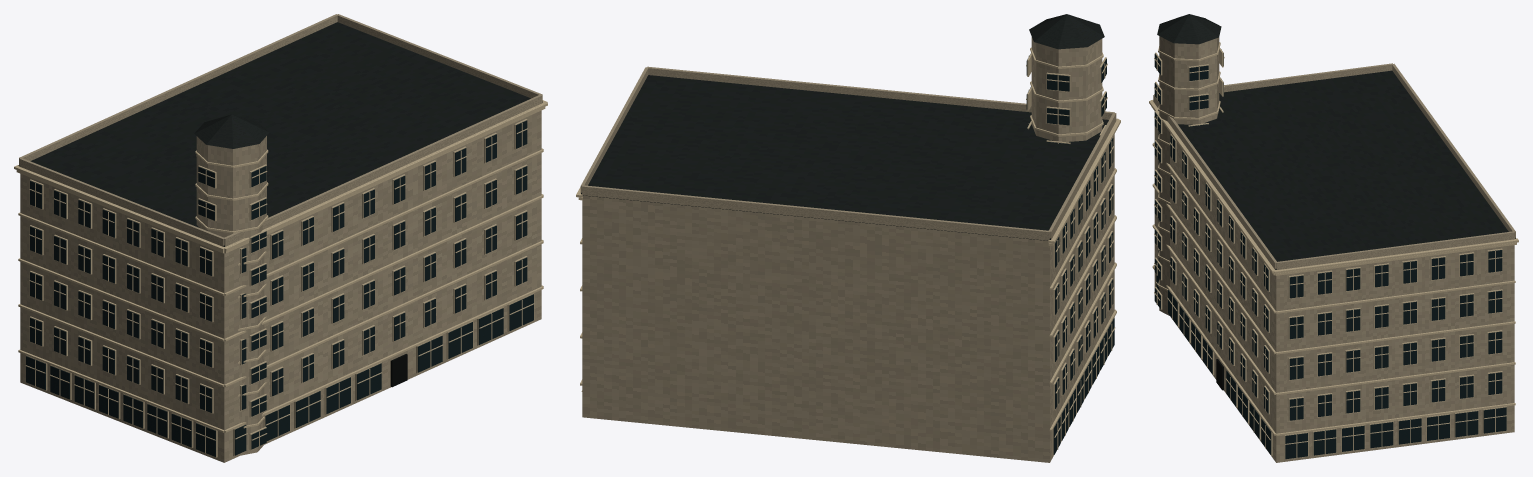
3 renders of one model, left to right at view 1: azimuth 30°, elevation 25°; view 2: azimuth 150°, elevation 25°; view 3: azimuth 270°, elevation 25°, orthographic. The views are drawn at different scales.
Visible parts, largest first — view 1: ca-hoogstraat-0, ca-hoogstraat-3, ca-hoogstraat-2, ca-hoogstraat-1; view 2: ca-hoogstraat-0, ca-hoogstraat-3, ca-hoogstraat-1, ca-hoogstraat-2; view 3: ca-hoogstraat-0, ca-hoogstraat-3, ca-hoogstraat-2, ca-hoogstraat-1.
Boxes of the visible parts, x1,y1,x2,y2 form: ca-hoogstraat-0: (19,14,542,462); ca-hoogstraat-3: (18,22,542,246); ca-hoogstraat-2: (26,120,533,456); ca-hoogstraat-1: (14,100,547,457); ca-hoogstraat-0: (580,37,1116,462); ca-hoogstraat-3: (581,14,1108,240); ca-hoogstraat-1: (576,47,1120,455); ca-hoogstraat-2: (1026,54,1114,454); ca-hoogstraat-0: (1153,36,1515,462); ca-hoogstraat-3: (1157,14,1515,269); ca-hoogstraat-2: (1154,53,1506,459); ca-hoogstraat-1: (1149,42,1518,459).
Size of the model in its own units: 52.13 by 35 by 40.06.
Materials: 5 (5 with a texture image).
